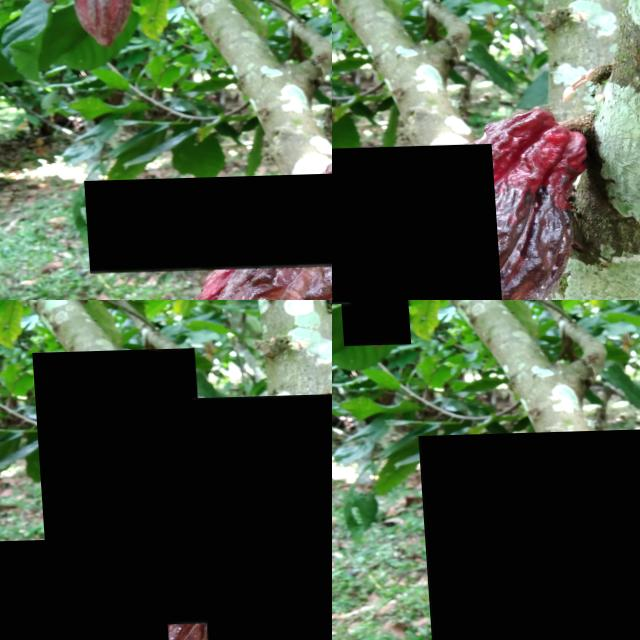Fitoftora: (30, 351, 207, 629), (415, 430, 640, 640), (332, 146, 497, 300), (261, 372, 268, 383)
Sana: (190, 396, 332, 640), (80, 175, 332, 274), (336, 300, 409, 346), (278, 300, 292, 317), (210, 343, 218, 355), (204, 351, 209, 361)
